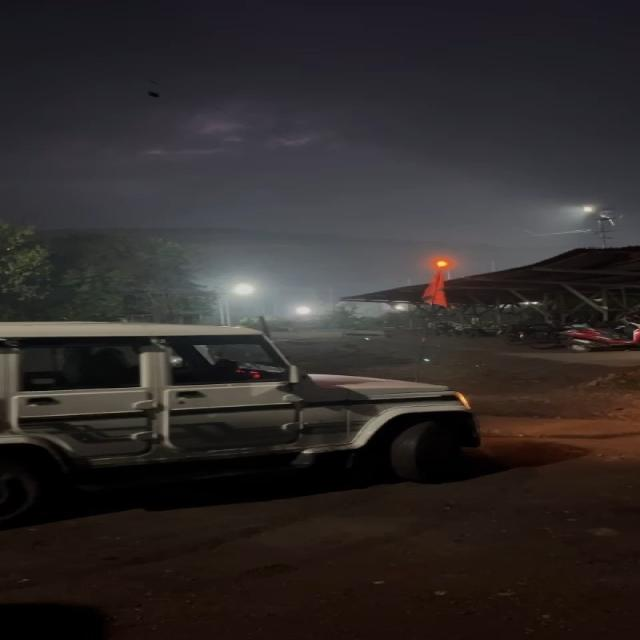light_vehicle: (0, 322, 494, 494)
